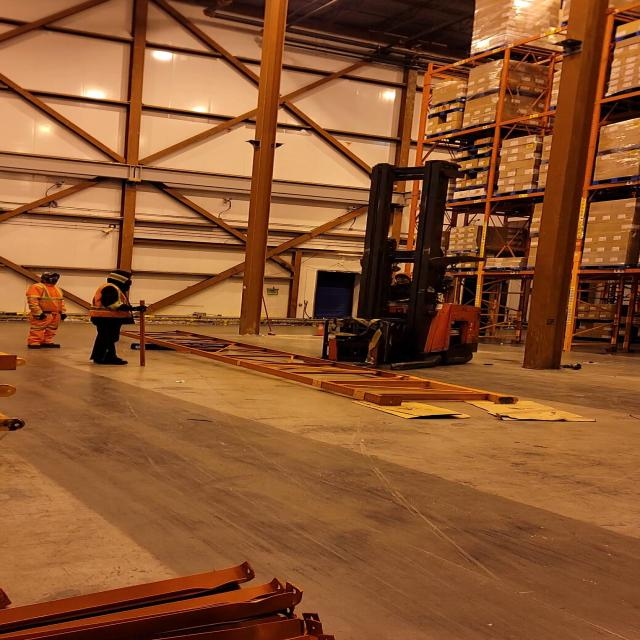forklift: (309, 164, 481, 373)
human: (376, 266, 461, 314)
objectofinterest: (110, 322, 526, 407), (459, 390, 601, 425), (340, 390, 479, 422), (124, 338, 186, 352)
